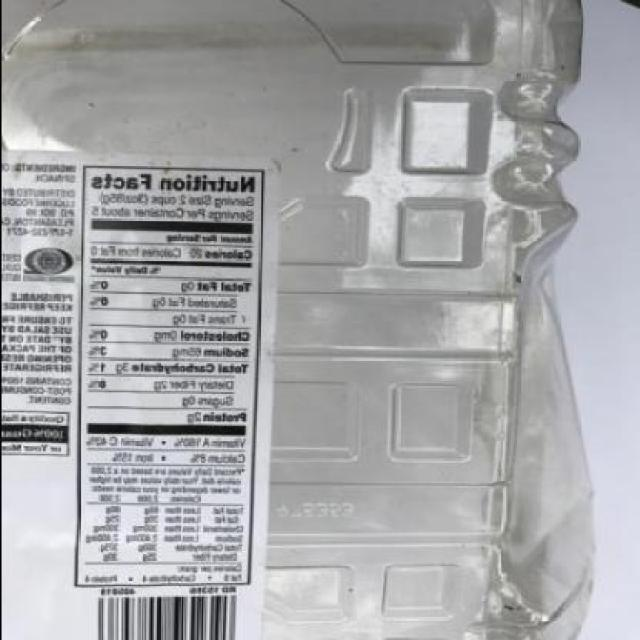PLASTIC: (1, 1, 594, 638)
